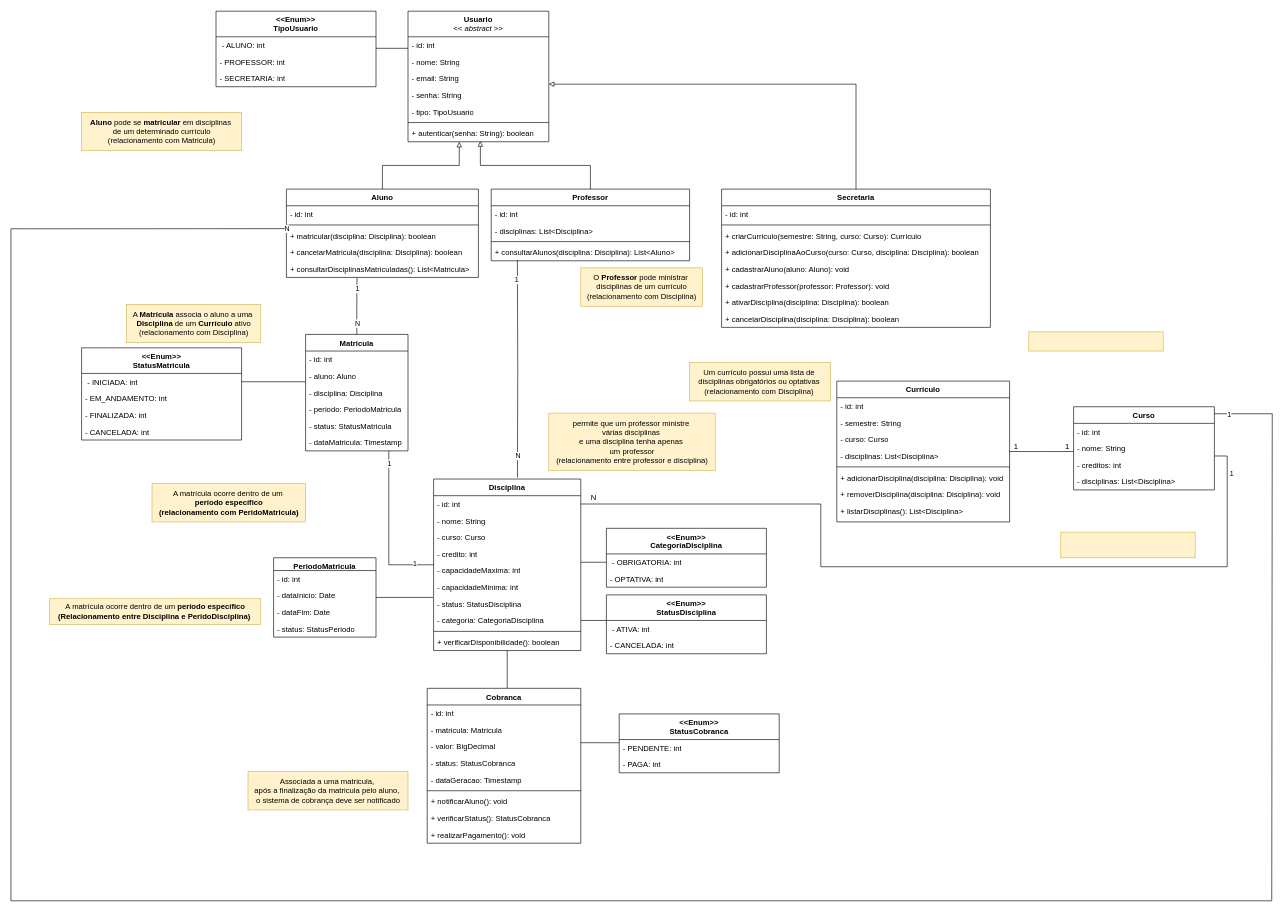
Image size: 1284x913. Some labels were removed from this diagram. The shapes that lost their labels are listed below. From the top down, each one's centre as x and y in pixels, then its label:
At (1095,341): "Secretaria Cria e gerencia curriculo".
At (1127,545): "Cada Curriculo pertece a um curso (relacionamento com Curriculo)".
